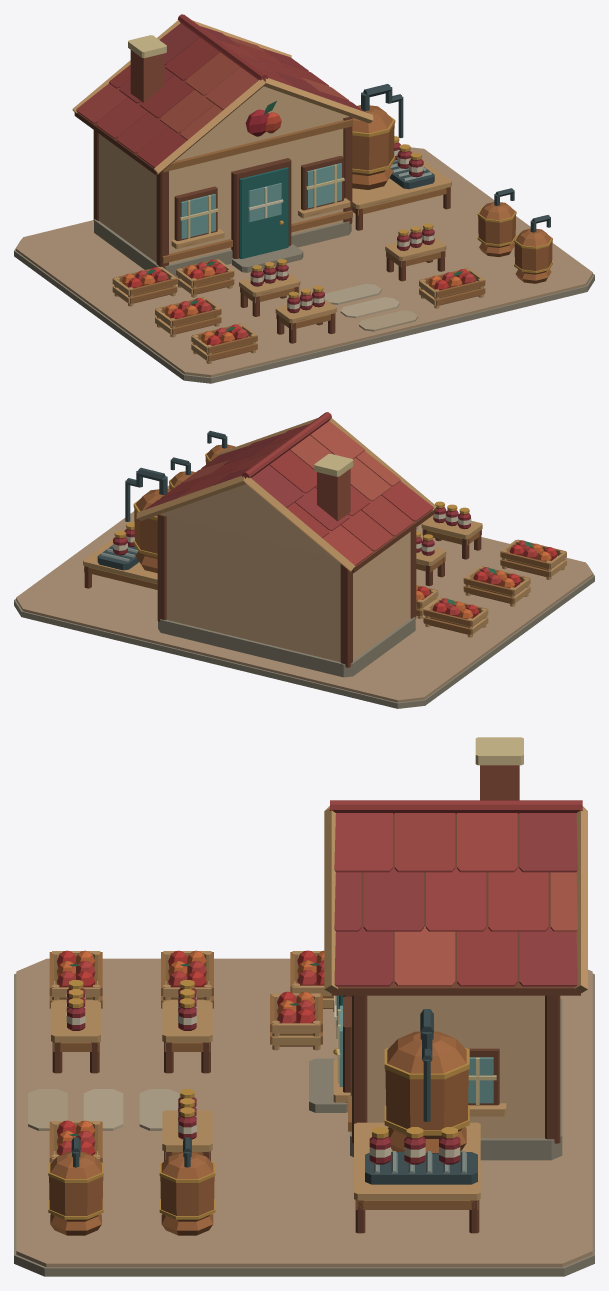
The picture shows the model from 3 angles, top to bottom: view 1: azimuth 30°, elevation 25°; view 2: azimuth 150°, elevation 25°; view 3: azimuth 270°, elevation 25°; orthographic projection. The views are drawn at different scales.
Parts seen in each view (by area): view 1: Base, Staff06, Staff09, Staff08, Staff04, Staff05, Staff03, Staff07, Staff10; view 2: Base, Staff09, Staff03, Staff07, Staff05, Staff08, Staff04; view 3: Base, Staff04, Staff08, Staff05, Staff09, Staff06, Staff07, Staff03, Staff10.
Part boxes in pixels (<box>): Base: <box>14,14,594,383</box>; Staff06: <box>385,223,446,281</box>; Staff09: <box>275,285,336,343</box>; Staff08: <box>514,215,552,283</box>; Staff04: <box>477,188,516,256</box>; Staff05: <box>239,259,300,316</box>; Staff03: <box>155,297,221,337</box>; Staff07: <box>191,323,257,363</box>; Staff10: <box>419,268,485,308</box>; Base: <box>14,412,594,708</box>; Staff09: <box>421,501,482,559</box>; Staff03: <box>463,566,530,606</box>; Staff07: <box>500,539,566,579</box>; Staff05: <box>416,531,446,586</box>; Staff08: <box>205,430,235,464</box>; Staff04: <box>169,457,195,489</box>; Base: <box>14,737,594,1276</box>; Staff04: <box>159,1137,215,1235</box>; Staff08: <box>48,1137,103,1235</box>; Staff05: <box>162,980,212,1073</box>; Staff09: <box>51,980,100,1073</box>; Staff06: <box>162,1089,212,1160</box>; Staff07: <box>49,950,102,1008</box>; Staff03: <box>161,950,213,1008</box>; Staff10: <box>49,1120,102,1162</box>.
Bounding box in the file's own units: 9 × 4.2 × 7.2.
